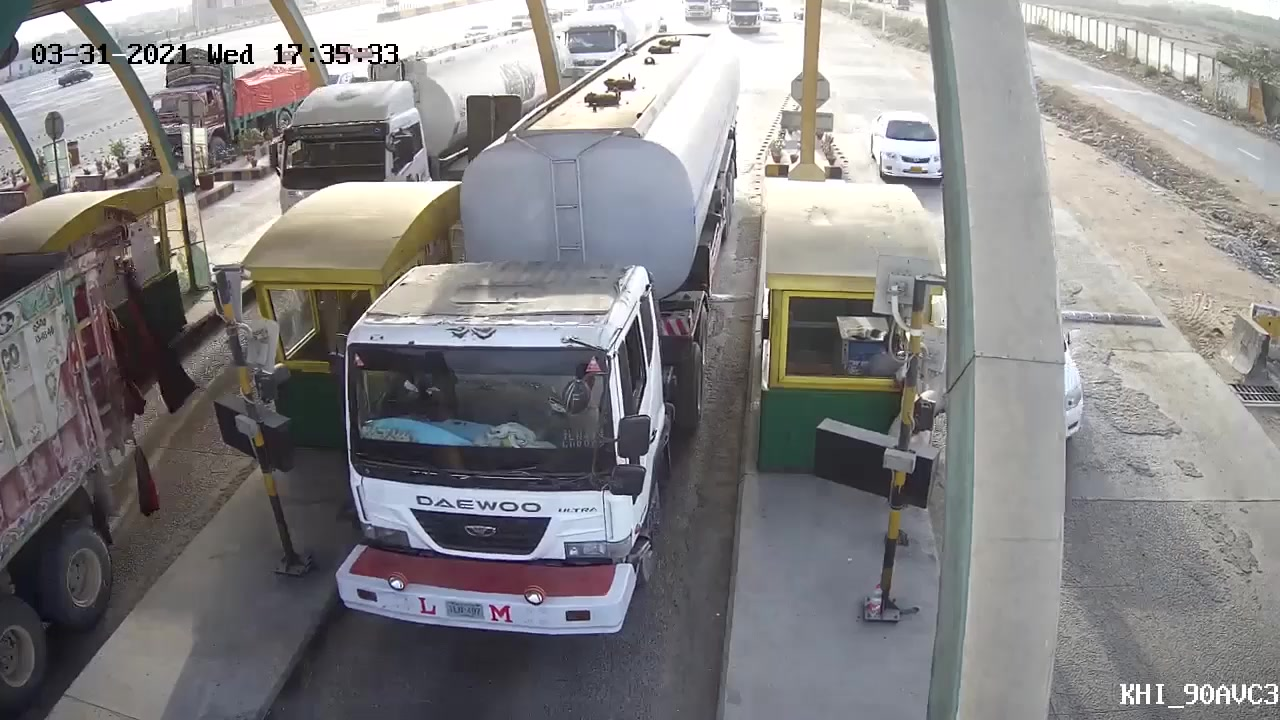F6: (340, 31, 740, 662)
